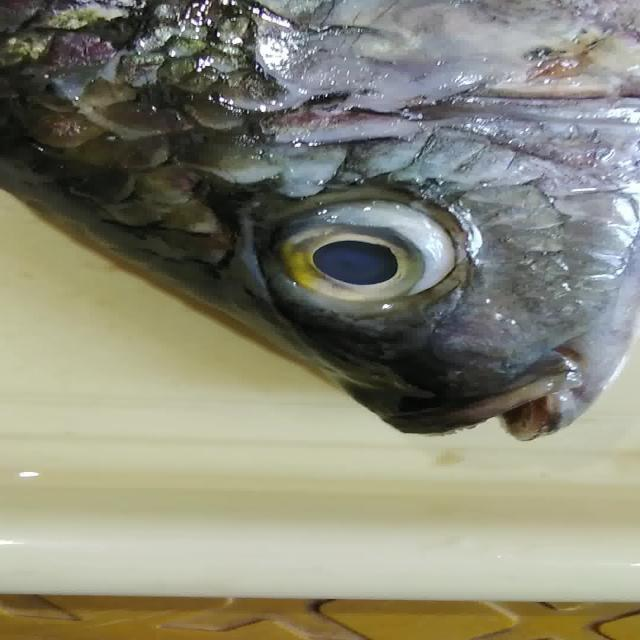Fresh: (182, 140, 531, 340)
